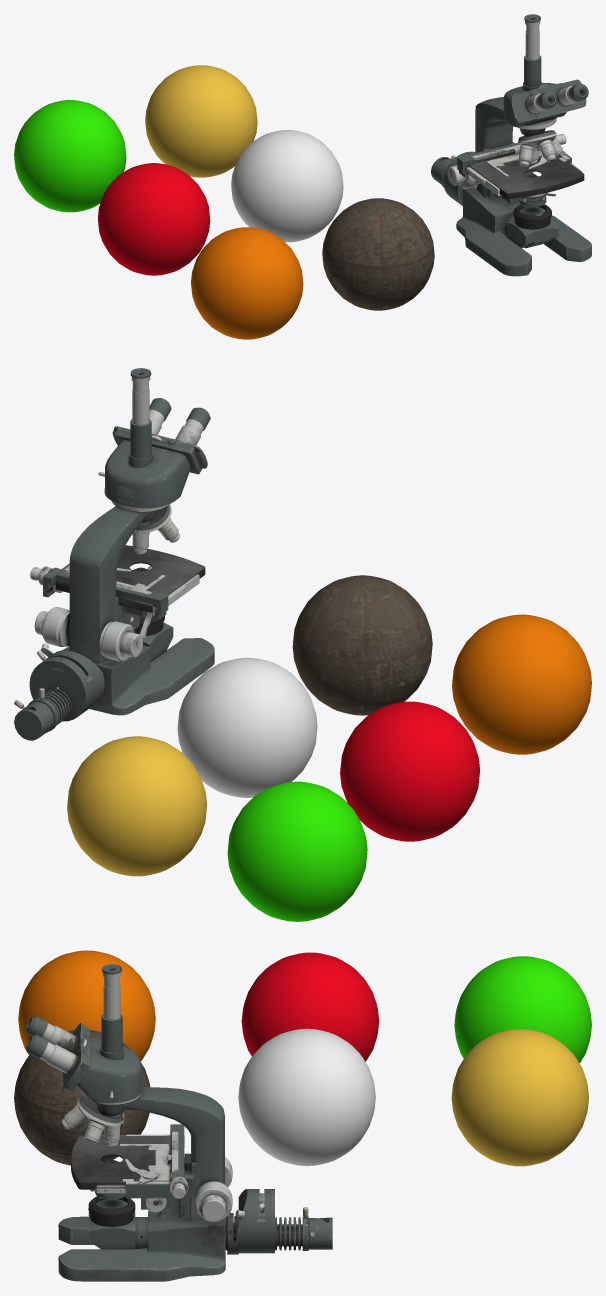
Rendered from rat2.glb.
The picture shows the model from 3 angles, top to bottom: view 1: azimuth 30°, elevation 25°; view 2: azimuth 150°, elevation 25°; view 3: azimuth 270°, elevation 25°; orthographic projection. The views are drawn at different scales.
Visible parts, largest first — view 1: industrial_microscope, Sphere.002, Sphere.004, Sphere.005, Sphere, Sphere.001, Sphere.003; view 2: industrial_microscope, Sphere, Sphere.003, Sphere.005, Sphere.004, Sphere.002, Sphere.001; view 3: industrial_microscope, Sphere, Sphere.001, Sphere.004, Sphere.003, Sphere.005, Sphere.002.
Boxes of the visible parts, x1=… form: industrial_microscope: x1=431, y1=14, x2=591, y2=276; Sphere.002: x1=322, y1=198, x2=434, y2=310; Sphere.004: x1=98, y1=163, x2=210, y2=275; Sphere.005: x1=191, y1=227, x2=303, y2=339; Sphere: x1=145, y1=65, x2=257, y2=177; Sphere.001: x1=231, y1=130, x2=343, y2=242; Sphere.003: x1=14, y1=100, x2=126, y2=212; industrial_microscope: x1=14, y1=368, x2=214, y2=740; Sphere: x1=67, y1=736, x2=206, y2=876; Sphere.003: x1=227, y1=781, x2=367, y2=921; Sphere.005: x1=452, y1=614, x2=591, y2=754; Sphere.004: x1=340, y1=701, x2=479, y2=841; Sphere.002: x1=292, y1=575, x2=432, y2=715; Sphere.001: x1=177, y1=657, x2=317, y2=797; industrial_microscope: x1=25, y1=964, x2=332, y2=1281; Sphere: x1=451, y1=1029, x2=588, y2=1166; Sphere.001: x1=238, y1=1028, x2=375, y2=1166; Sphere.004: x1=241, y1=952, x2=379, y2=1061; Sphere.003: x1=454, y1=956, x2=591, y2=1063; Sphere.005: x1=18, y1=950, x2=155, y2=1061; Sphere.002: x1=14, y1=1030, x2=150, y2=1165.
Size of the model in its own units: 0.8303 by 0.4719 by 0.84.
7 materials, 2 textured.
